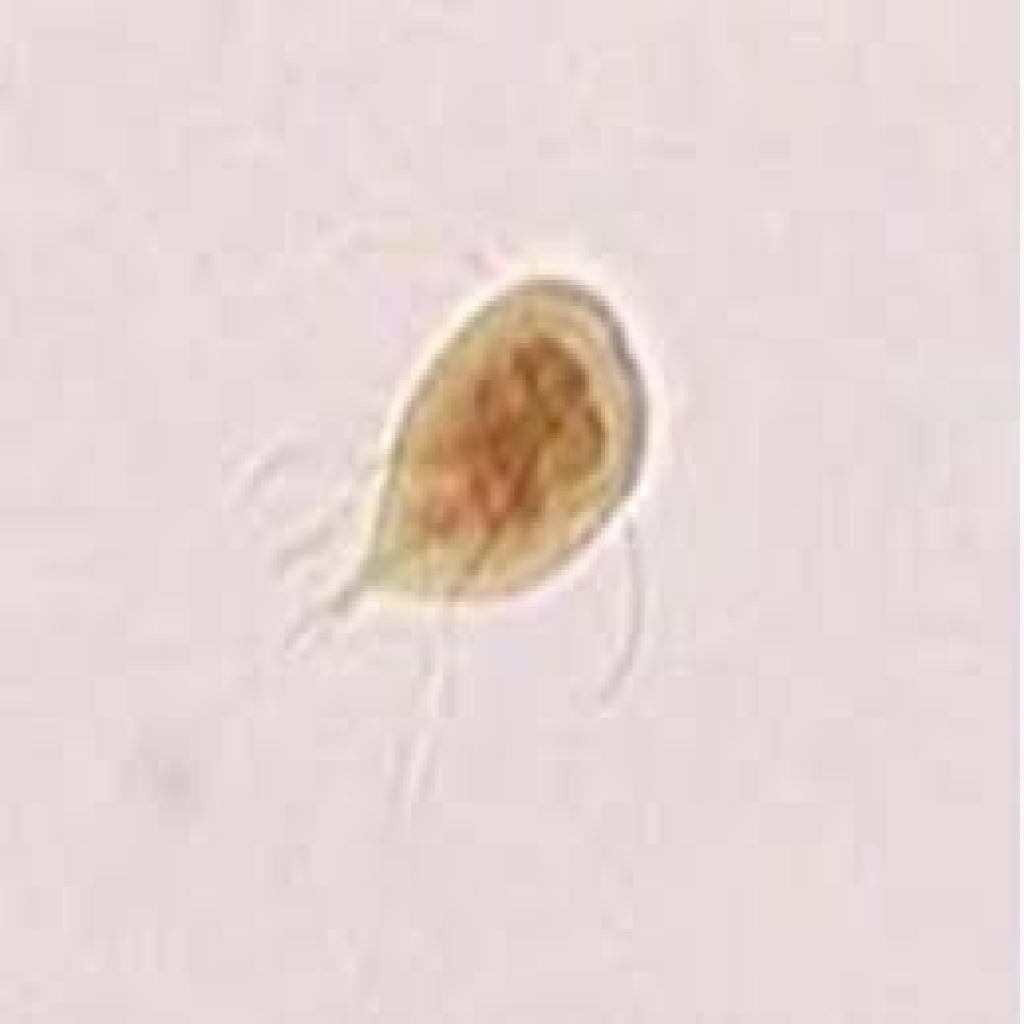Giardia: (304, 258, 656, 718)
